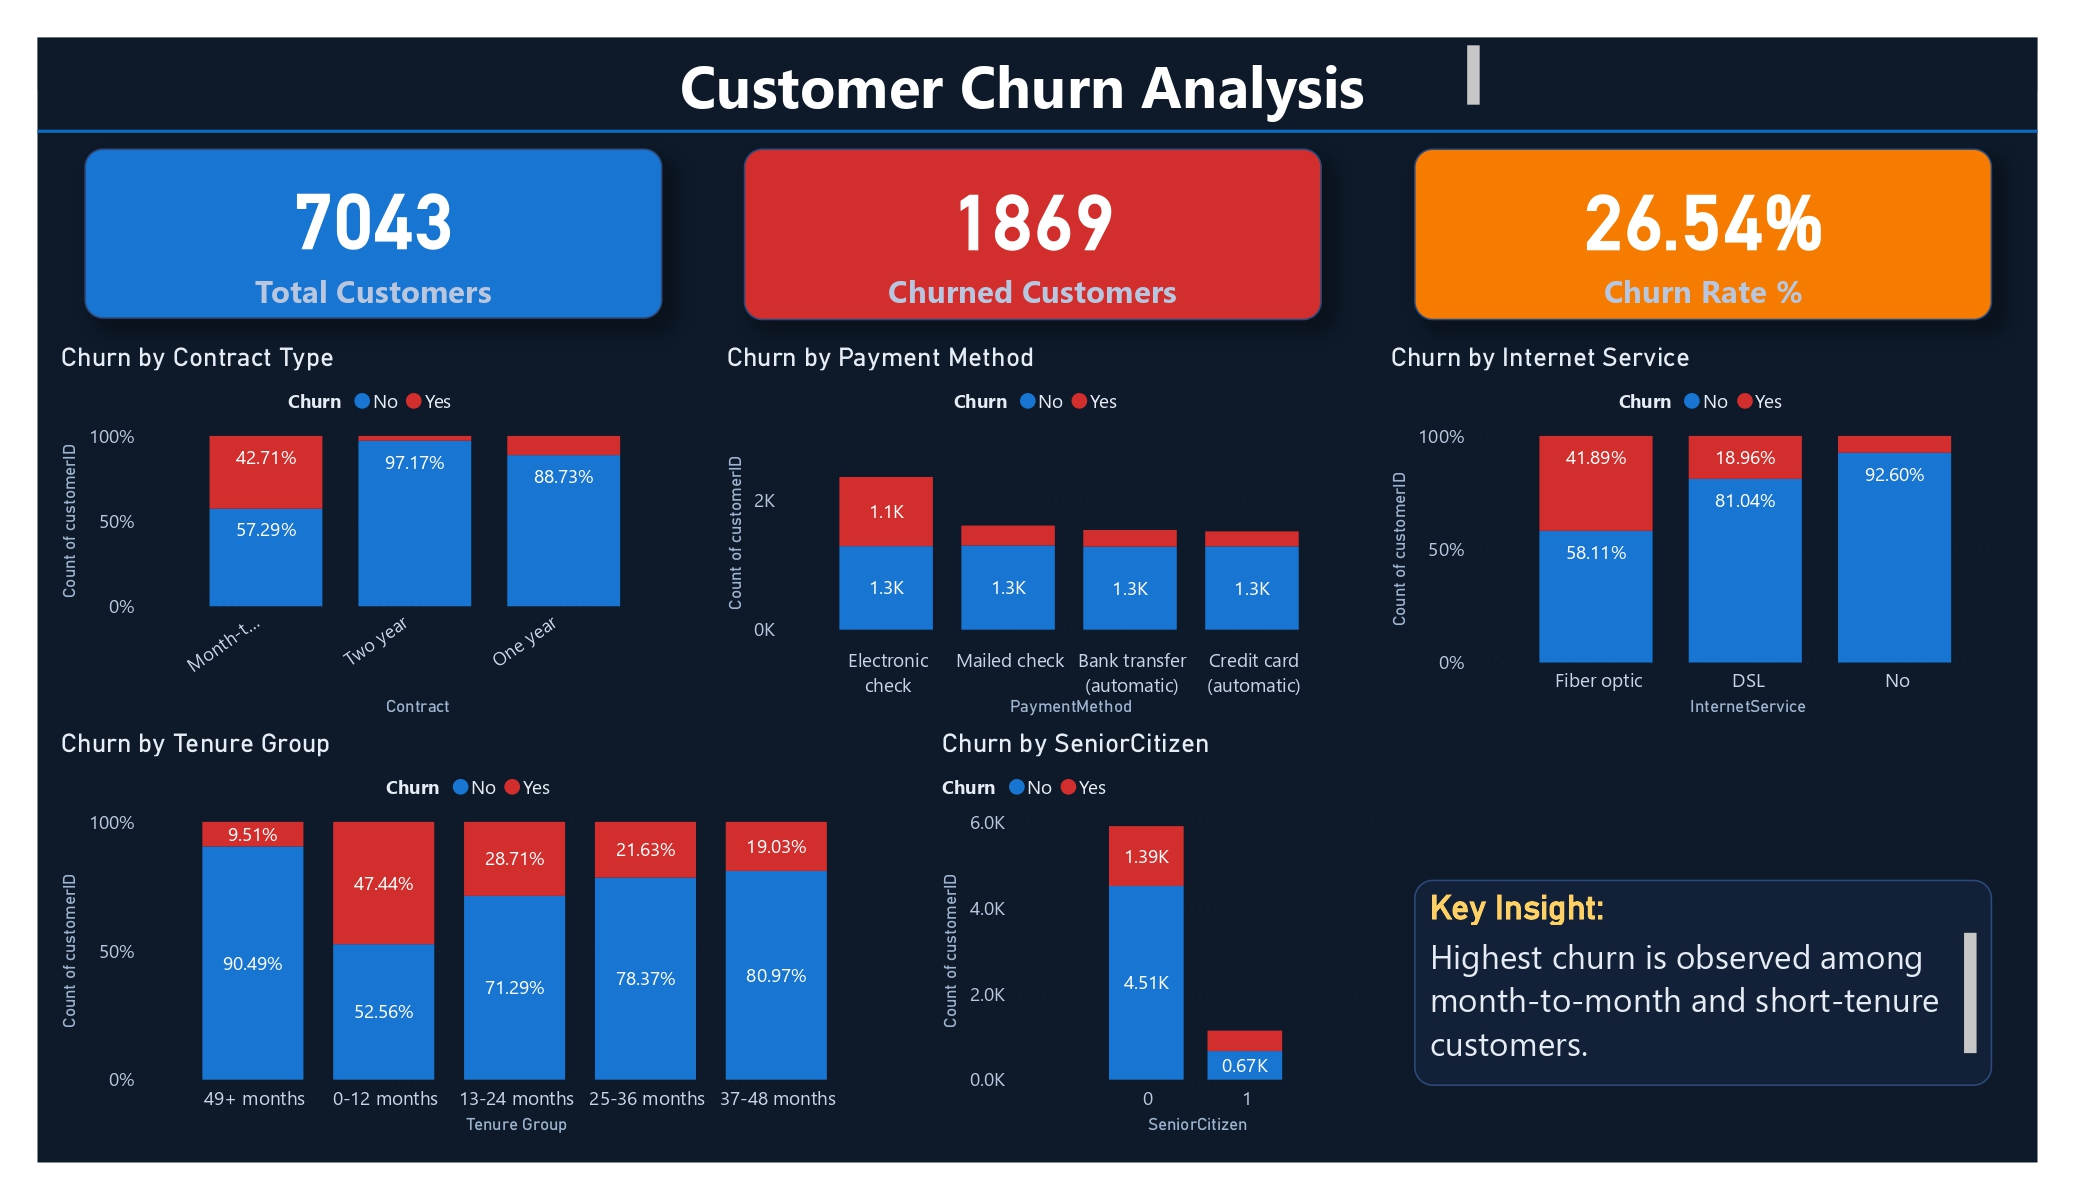

Layout of this report page (visuals, bound fields, positions):
{"tool":"powerbi","page":{"name":"Page 1","canvas":[1280,720],"ordinal":0},"visuals":[{"type":"card","fields":{"Values":["telco_churn_cleaned.Total Customers"]},"box":[30.2,70.6,370.1,109.4],"z":0},{"type":"card","title":"Churn Rate %","fields":{"Values":["telco_churn_cleaned.Churn Rate %"]},"box":[881.3,70.6,370.1,110.9],"z":1000},{"type":"card","fields":{"Values":["telco_churn_cleaned.Churned Customers"]},"box":[452.2,70.6,370,110.9],"z":2000},{"type":"hundredPercentStackedColumnChart","title":"Churn by Contract Type","fields":{"Category":["telco_churn_cleaned.Contract"],"Series":["telco_churn_cleaned.Churn"],"Y":["CountNonNull(telco_churn_cleaned.customerID)"]},"box":[10.1,194.4,410.4,244.8],"z":3000},{"type":"hundredPercentStackedColumnChart","title":"Churn by Internet Service","fields":{"Series":["telco_churn_cleaned.Churn"],"Y":["CountNonNull(telco_churn_cleaned.customerID)"],"Category":["telco_churn_cleaned.InternetService"]},"box":[861.1,194.4,410.4,245],"z":4000},{"type":"columnChart","title":"Churn by Payment Method","fields":{"Category":["telco_churn_cleaned.PaymentMethod"],"Series":["telco_churn_cleaned.Churn"],"Y":["CountNonNull(telco_churn_cleaned.customerID)"]},"box":[435.8,194.4,410,245],"z":5000},{"type":"hundredPercentStackedColumnChart","title":"Churn by Tenure Group","fields":{"Category":["telco_churn_cleaned.Tenure Group"],"Y":["CountNonNull(telco_churn_cleaned.customerID)"],"Series":["telco_churn_cleaned.Churn"]},"box":[10.1,440.6,535.7,265],"z":6000},{"type":"textbox","box":[351.2,0,576.6,60],"z":7000},{"type":"columnChart","title":"Churn by SeniorCitizen","fields":{"Category":["telco_churn_cleaned.SeniorCitizen"],"Y":["CountNonNull(telco_churn_cleaned.customerID)"],"Series":["telco_churn_cleaned.Churn"]},"box":[574.2,440.9,286.4,265.2],"z":8000},{"type":"textbox","title":"Key Insight:","box":[881.3,538.6,370.1,132.5],"z":9000},{"type":"shape","box":[0,31.7,1280.2,56.2],"z":9001}]}

Visuals, with their boxes in screenshot pixels (x1, y1, x2, y2):
card - telco_churn_cleaned.Total Customers: 85, 148, 663, 319
"Churn Rate %" card: 1415, 148, 1993, 321
card - telco_churn_cleaned.Churned Customers: 744, 148, 1322, 321
"Churn by Contract Type" hundredPercentStackedColumnChart: 53, 341, 695, 724
"Churn by Internet Service" hundredPercentStackedColumnChart: 1383, 341, 2024, 724
"Churn by Payment Method" columnChart: 718, 341, 1359, 724
"Churn by Tenure Group" hundredPercentStackedColumnChart: 53, 726, 890, 1140
textbox: 586, 38, 1487, 131
"Churn by SeniorCitizen" columnChart: 935, 726, 1382, 1141
"Key Insight:" textbox: 1415, 879, 1993, 1086
shape: 38, 87, 2038, 175
